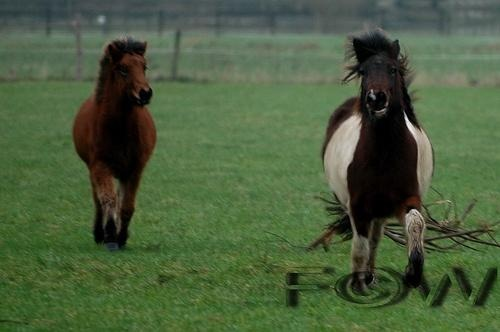horse: (323, 31, 435, 292), (72, 39, 159, 255)
